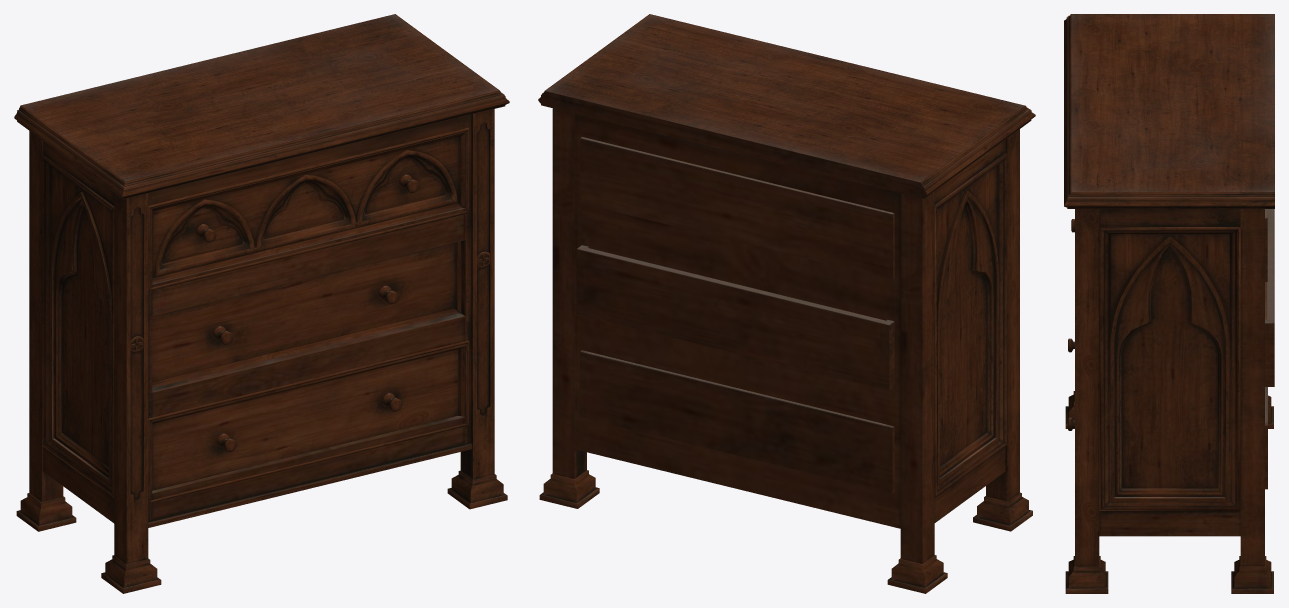
The model's file is gothic_commode_01.glb.
3 renders of one model, left to right at view 1: azimuth 30°, elevation 25°; view 2: azimuth 150°, elevation 25°; view 3: azimuth 270°, elevation 25°, orthographic. The views are drawn at different scales.
Visible parts, largest first — view 1: GothicCommode_01, GothicCommode_01_door01, GothicCommode_01_door03, GothicCommode_01_door02; view 2: GothicCommode_01, GothicCommode_01_door02, GothicCommode_01_door03, GothicCommode_01_door01; view 3: GothicCommode_01, GothicCommode_01_door02, GothicCommode_01_door03.
Part boxes in pixels (left/top/right/bottom): GothicCommode_01: left=14, top=14, right=509, bottom=593; GothicCommode_01_door01: left=148, top=127, right=469, bottom=291; GothicCommode_01_door03: left=148, top=340, right=469, bottom=503; GothicCommode_01_door02: left=152, top=241, right=461, bottom=388; GothicCommode_01: left=538, top=14, right=1035, bottom=593; GothicCommode_01_door02: left=576, top=245, right=894, bottom=390; GothicCommode_01_door03: left=580, top=350, right=894, bottom=493; GothicCommode_01_door01: left=580, top=137, right=894, bottom=279; GothicCommode_01: left=1064, top=14, right=1274, bottom=593; GothicCommode_01_door02: left=1265, top=209, right=1274, bottom=386; GothicCommode_01_door03: left=1068, top=338, right=1267, bottom=489.
Bounding box in the file's own units: 1.2 × 1.21 × 0.5807.
Materials: 1 (1 with a texture image).
